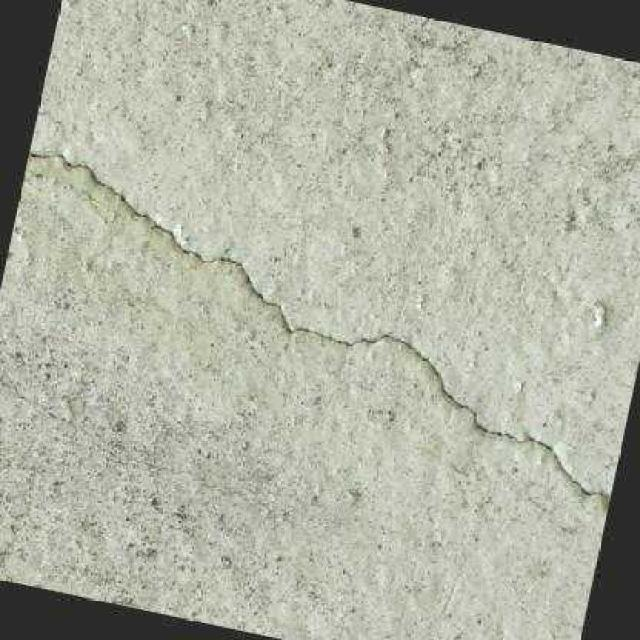D00: (29, 148, 609, 505)
